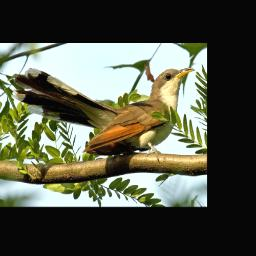Cuckoo: (11, 67, 195, 158)
